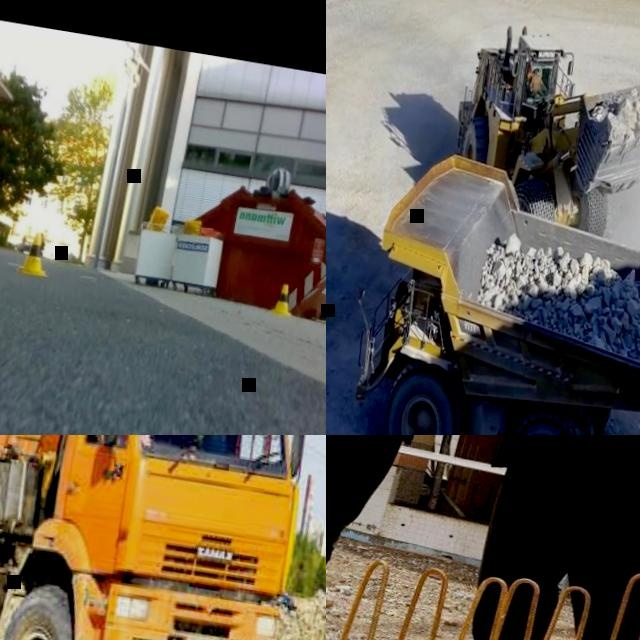NO-Hardhat: (535, 66, 540, 71)
NO-Safety Vest: (532, 74, 541, 90)
Person: (366, 435, 640, 640), (326, 435, 502, 640), (111, 435, 155, 449), (528, 65, 544, 94)
Safety Cone: (14, 232, 52, 276), (269, 282, 295, 316)
machinery: (326, 136, 640, 435), (0, 435, 326, 640), (435, 8, 640, 273)
vehicle: (274, 591, 299, 609)
